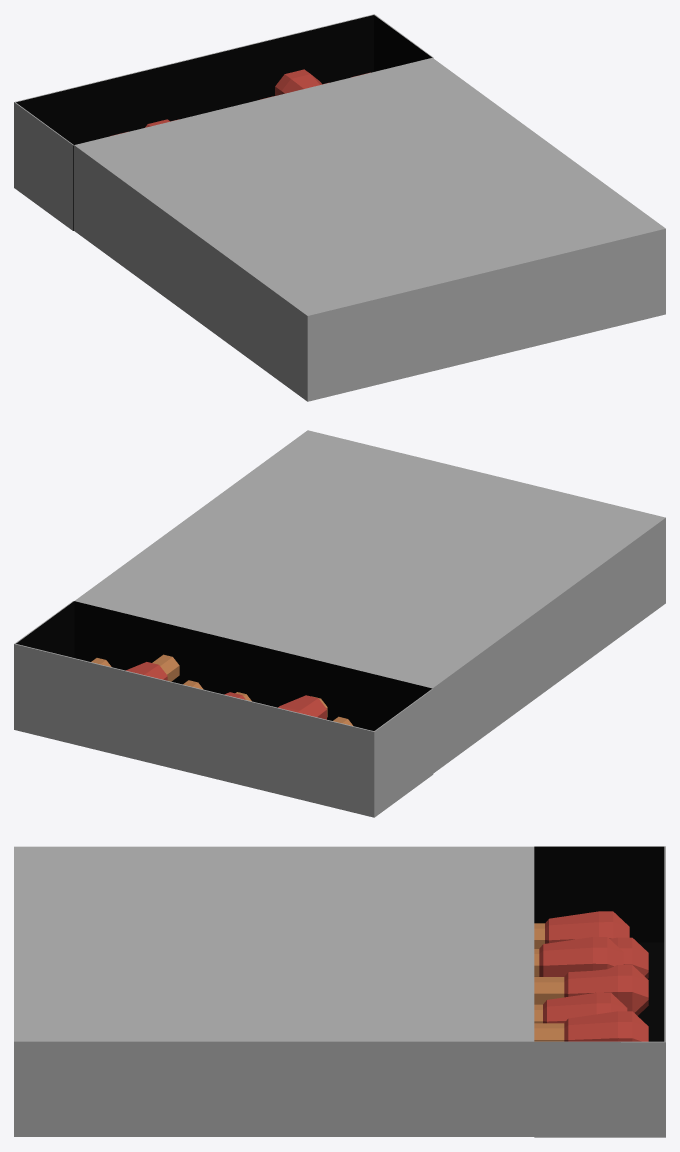
File: Matchbox.glb
3 views of the same model, one above another, from view 1: azimuth 30°, elevation 25°; view 2: azimuth 150°, elevation 25°; view 3: azimuth 270°, elevation 25° (orthographic). The views are drawn at different scales.
Visible parts, largest first — view 1: Cube.009; view 2: Cube.009; view 3: Cube.009.
Part boxes in pixels (box(x1,y1,x2,y2)): Cube.009: box(14, 14, 665, 401); Cube.009: box(14, 430, 665, 817); Cube.009: box(14, 846, 665, 1137).
Size of the model in its own units: 0.1316 by 0.0299 by 0.185.
